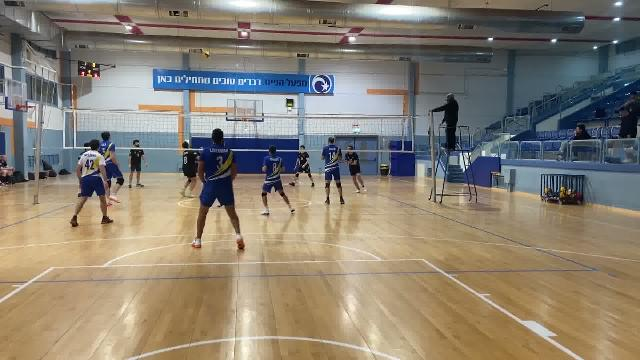ball: (201, 50, 213, 60)
